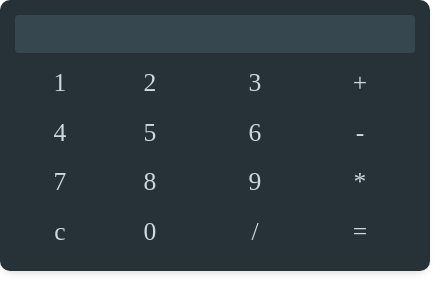
Test: Calculator › Simple operations › should work on subtraction
The width and height of the screenshot is (447, 292).
Click the button "3": (255, 83) [210,58,300,108]
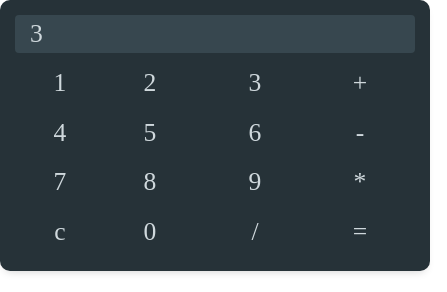
Check: the text with class "output" reads "3", box [30,19,43,48]
Click the button "-": (360, 132) [315,108,405,157]
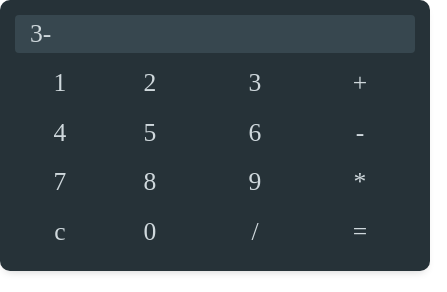
Check: the text with class "output" reads "3-", box [30,19,51,48]
Click the button "5": (150, 132) [105,108,195,157]
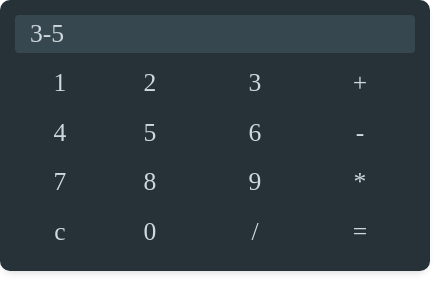
Check: the text with class "output" reads "3-5", box [30,19,64,48]
Click the button "=": (360, 231) [315,207,405,256]
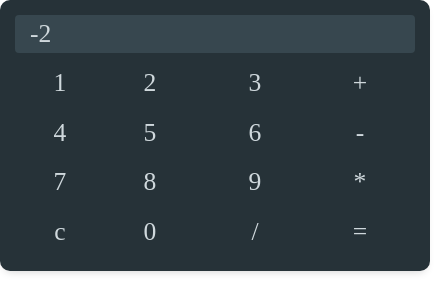
Check: the text with class "output" reads "-2", box [30,19,51,48]
